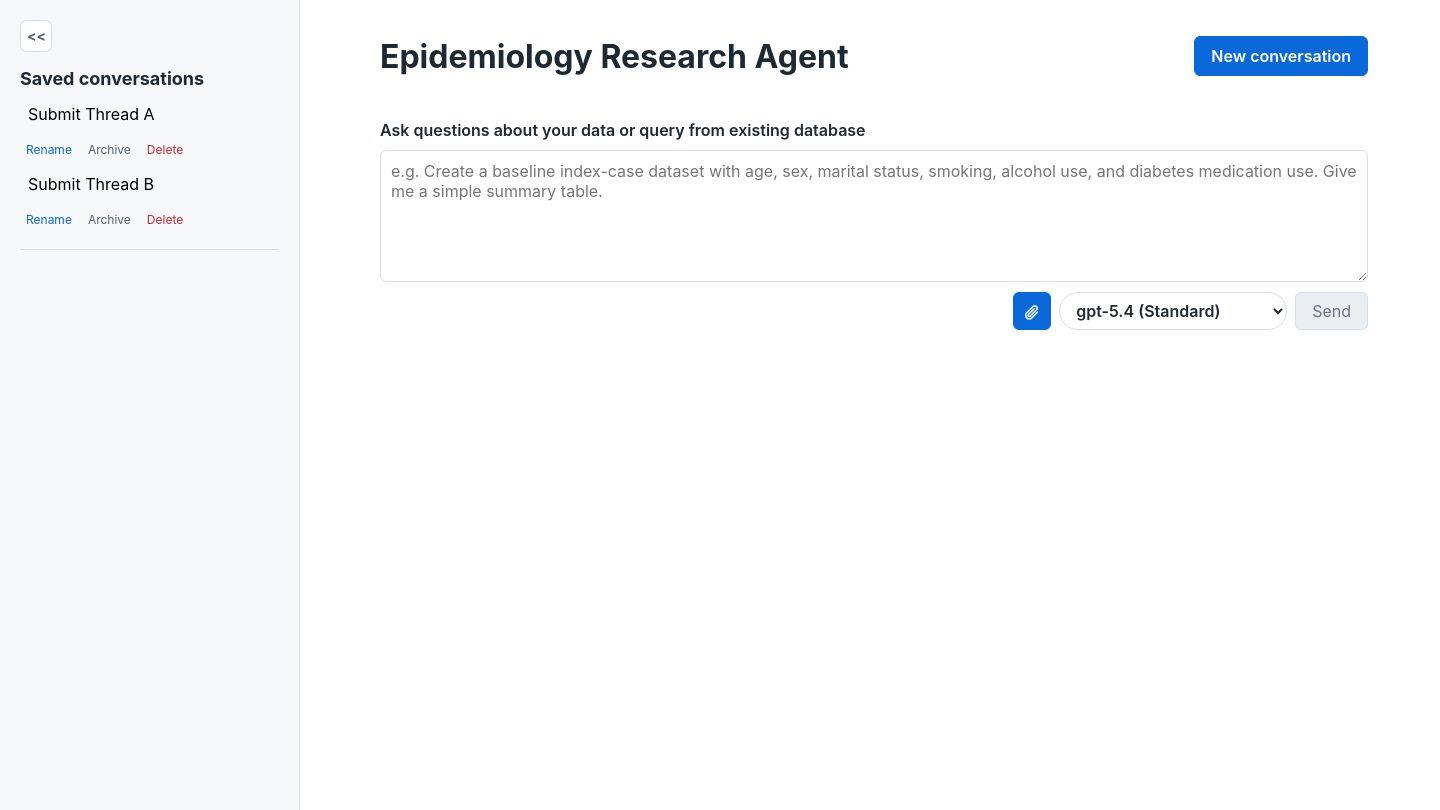
Test case: App › ignores a message response after the user switches conversations
The image size is (1440, 810).
Click the button "Submit Thread A" at (91, 114), box [20, 97, 162, 131]
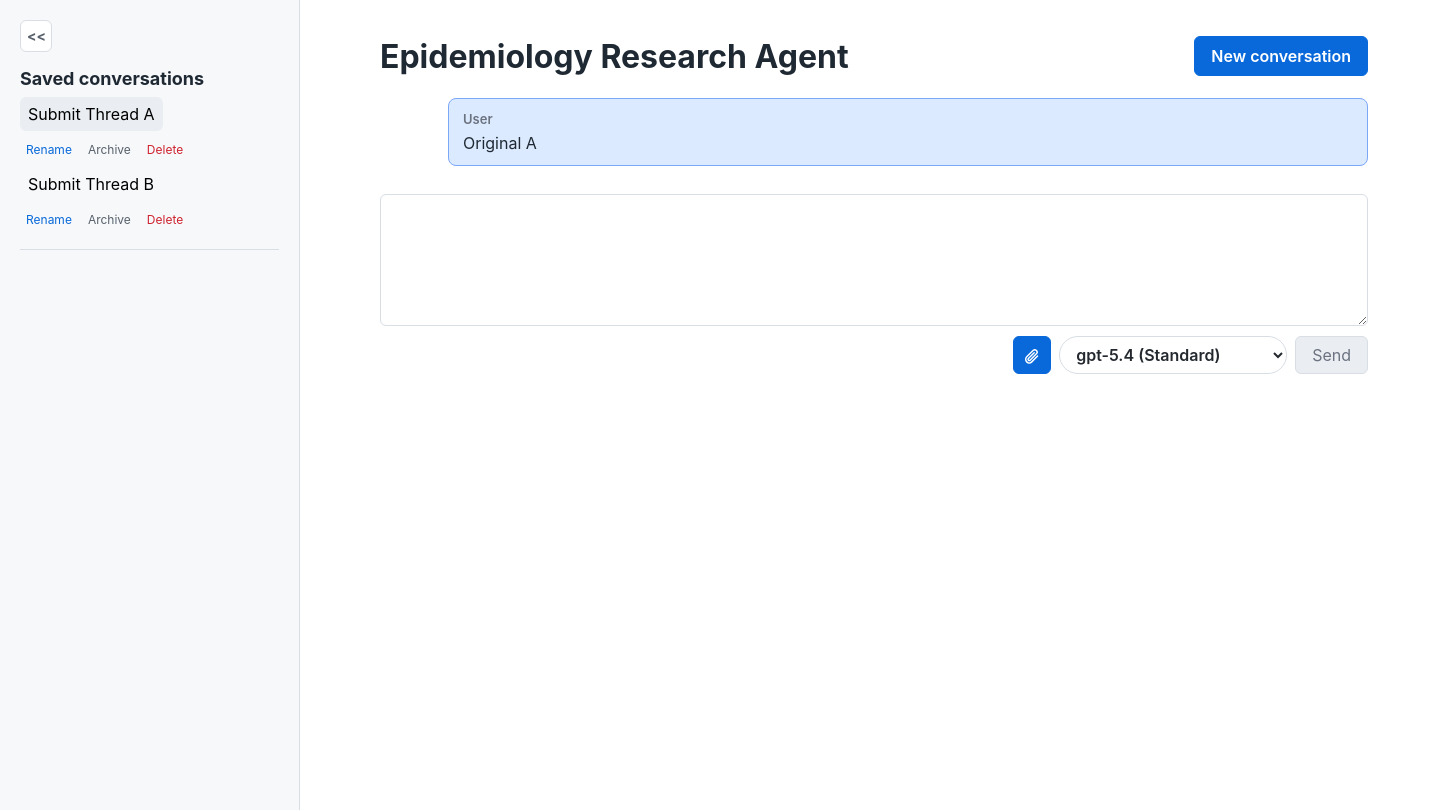
Expected: the text "Original A" is shown, [463, 133, 537, 153]
Type "Continue A" into the text box named "Ask a question about your dataset!" at (874, 260), box [380, 194, 1368, 326]
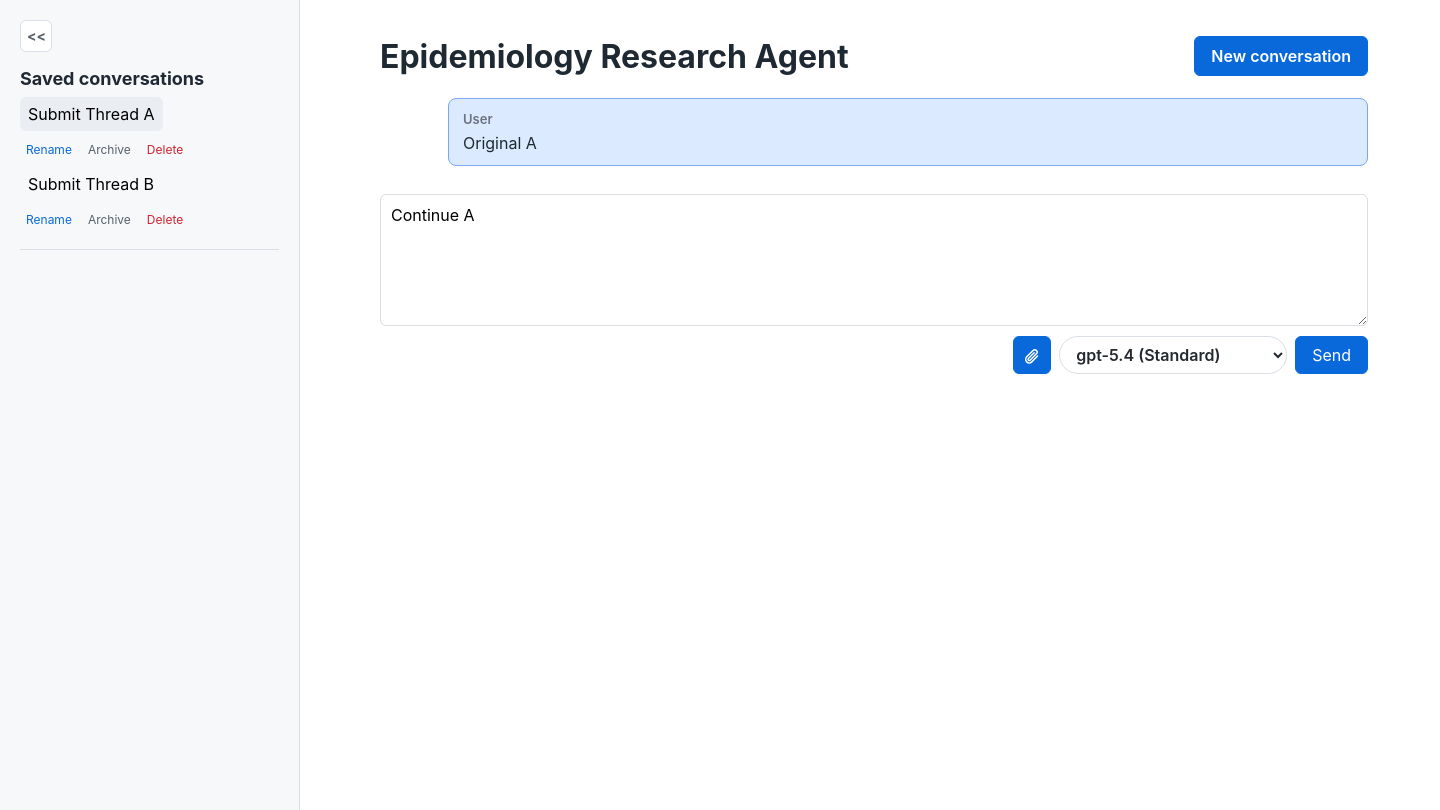
Click the button "Send" at (1332, 355), box [1295, 336, 1368, 374]
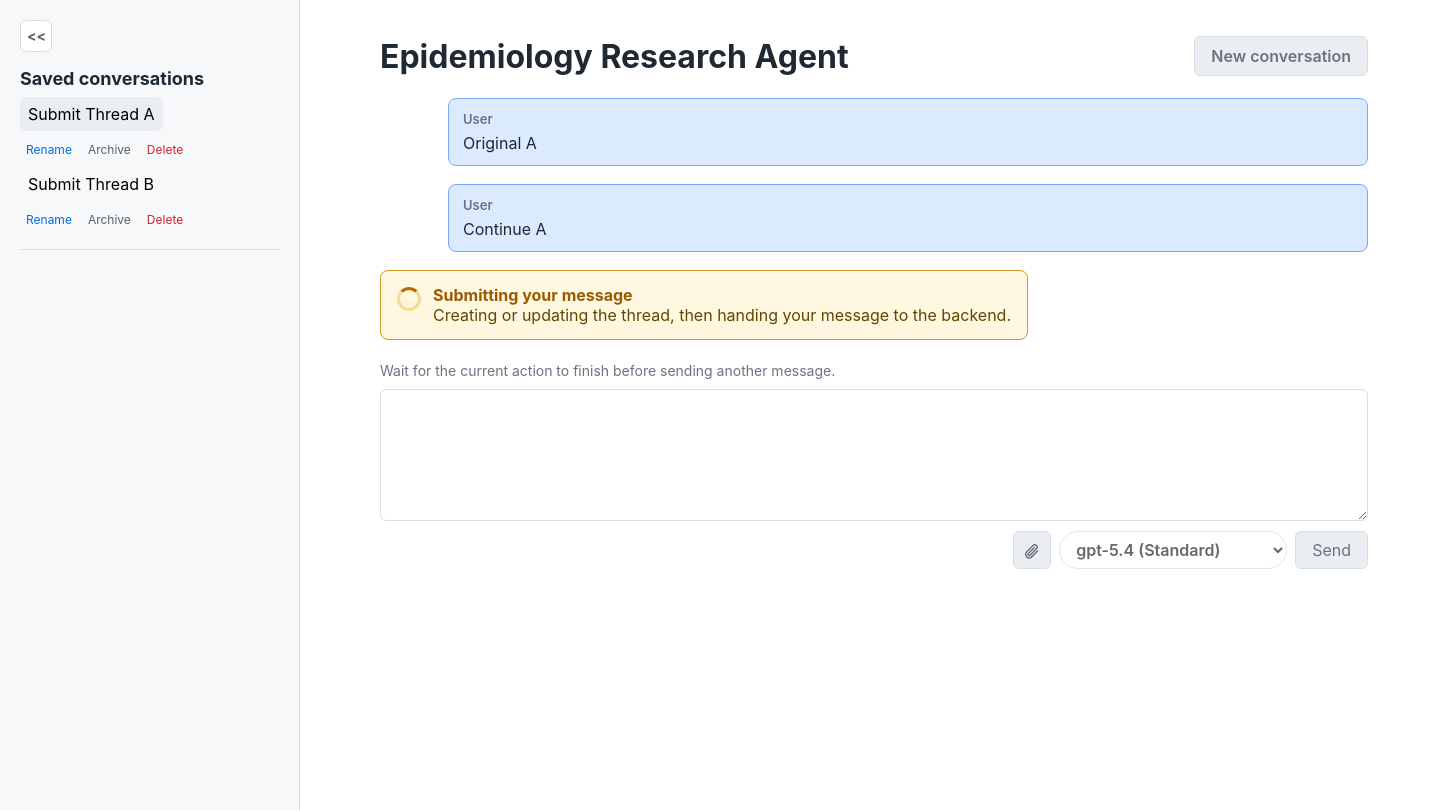
Click the button "Submit Thread B" at (91, 184), box [20, 167, 162, 201]
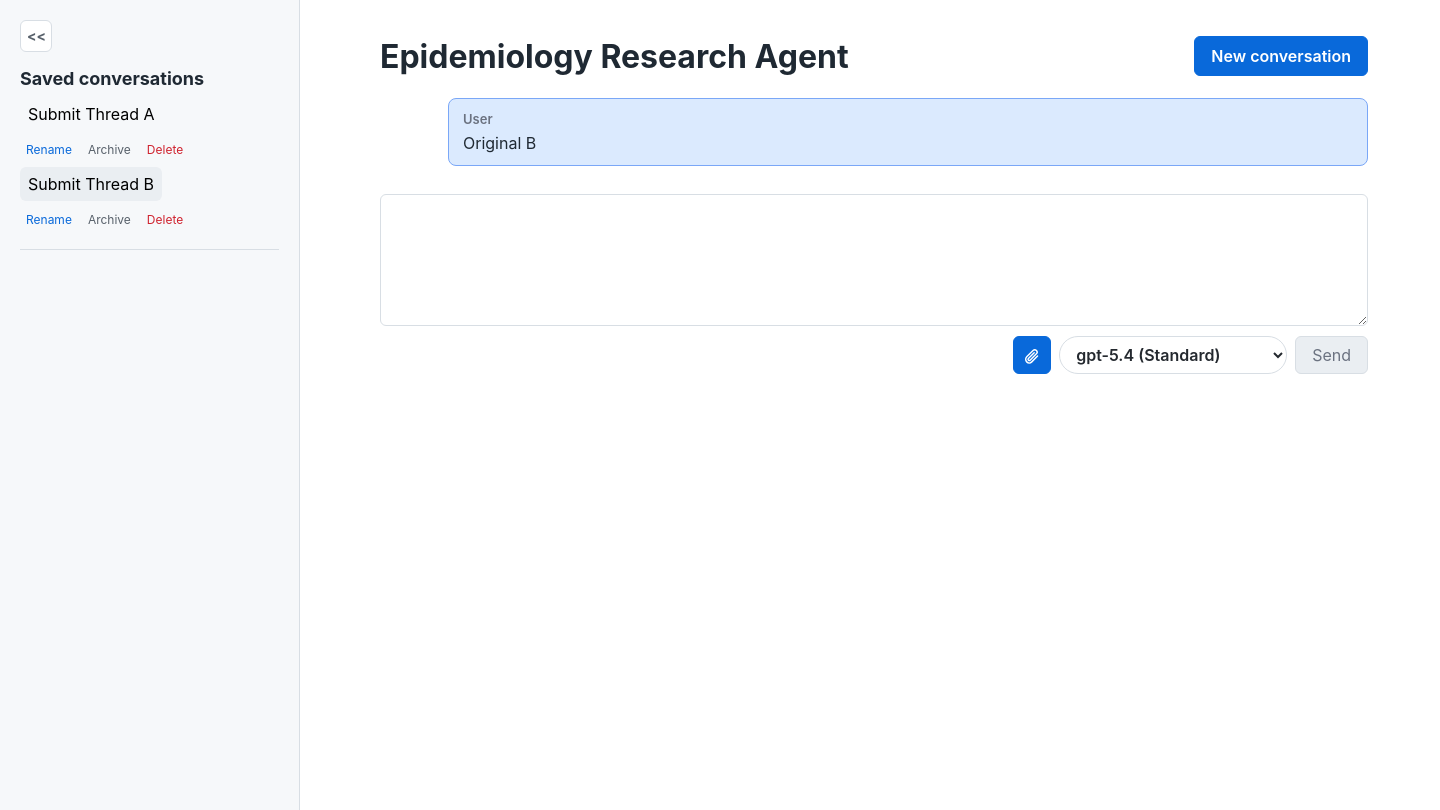
Expected: the text "Original B" is shown, [463, 133, 536, 153]
